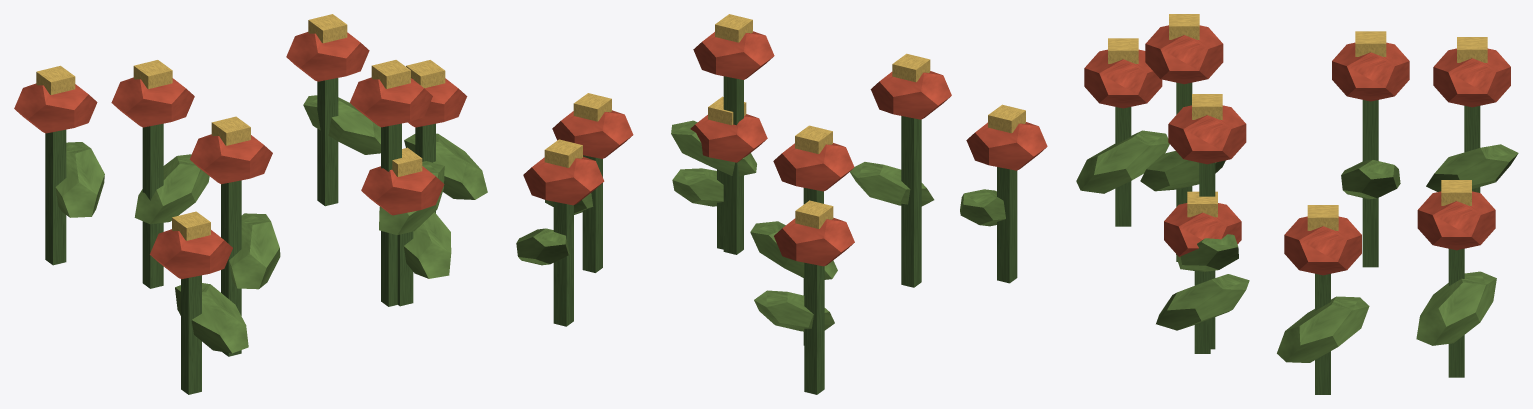
File: flowers.glb
The picture shows the model from 3 angles, left to right: view 1: azimuth 30°, elevation 25°; view 2: azimuth 150°, elevation 25°; view 3: azimuth 270°, elevation 25°; orthographic projection. The views are drawn at different scales.
Visible parts, largest first — view 1: flowers; view 2: flowers; view 3: flowers.
Boxes of the visible parts, x1,y1,x2,y2 form: flowers: (14, 14, 487, 394); flowers: (516, 14, 1047, 394); flowers: (1076, 14, 1518, 394).
Bounding box in the file's own units: 0.8052 × 0.4403 × 0.7191.
Materials: 2 (2 with a texture image).
